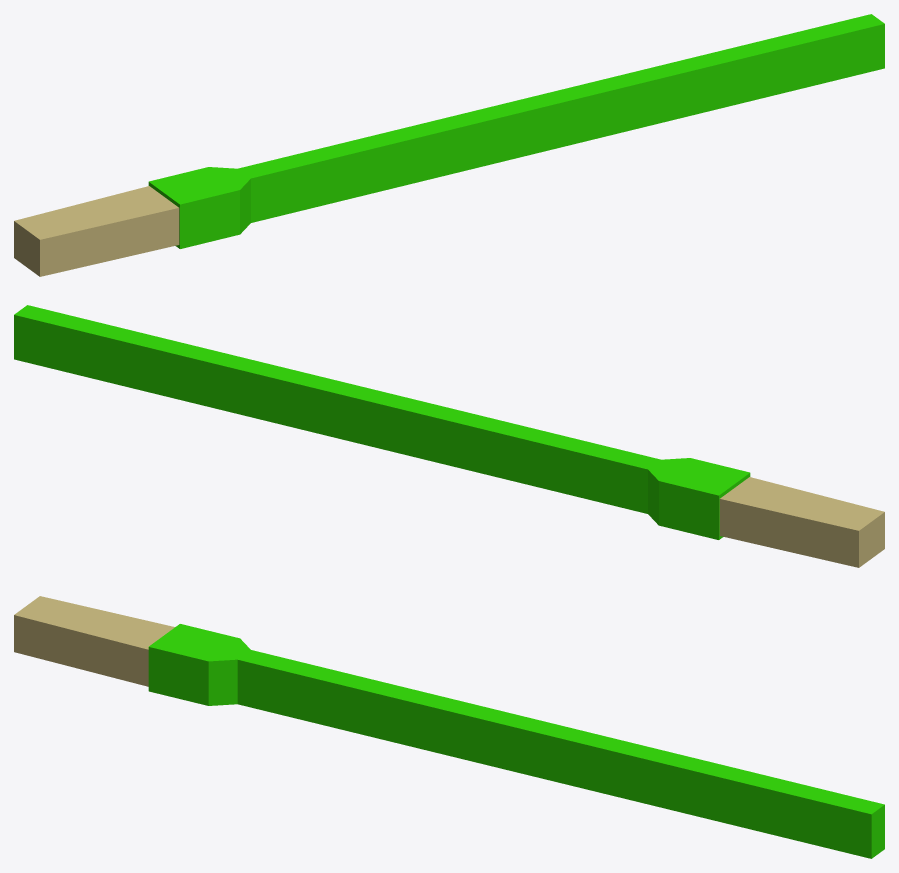
Rendered from paintbrush5.fbx.
3 renders of one model, top to bottom at view 1: azimuth 30°, elevation 25°; view 2: azimuth 150°, elevation 25°; view 3: azimuth 330°, elevation 25°, orthographic.
Visible parts, largest first — view 1: Cube; view 2: Cube; view 3: Cube.
Boxes of the visible parts, x1=… form: Cube: x1=14, y1=14, x2=884, y2=276; Cube: x1=14, y1=305, x2=884, y2=567; Cube: x1=14, y1=596, x2=884, y2=858.
Bounding box in the file's own units: 84.25 × 4.22 × 5.4.
